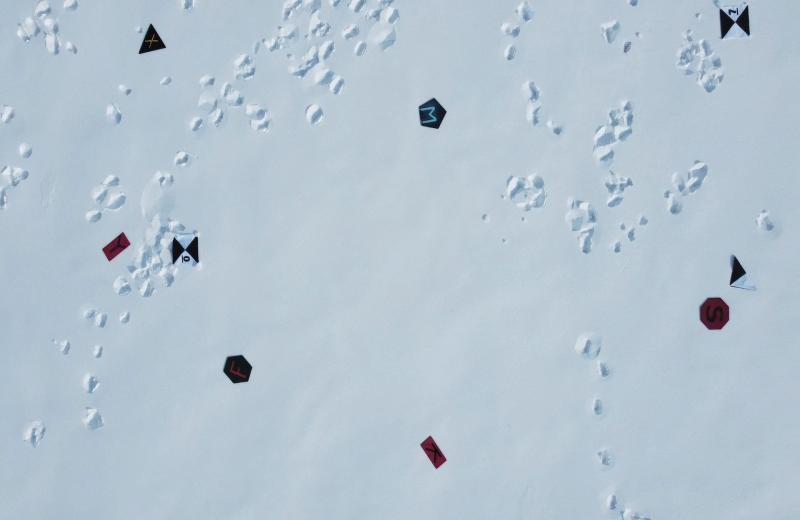Hexagon: (222, 352, 256, 387)
Octagon: (697, 294, 732, 334)
Pentagon: (415, 96, 449, 133)
Rectangle: (415, 435, 449, 470), (102, 230, 132, 267)
Triangle: (136, 18, 168, 61)
